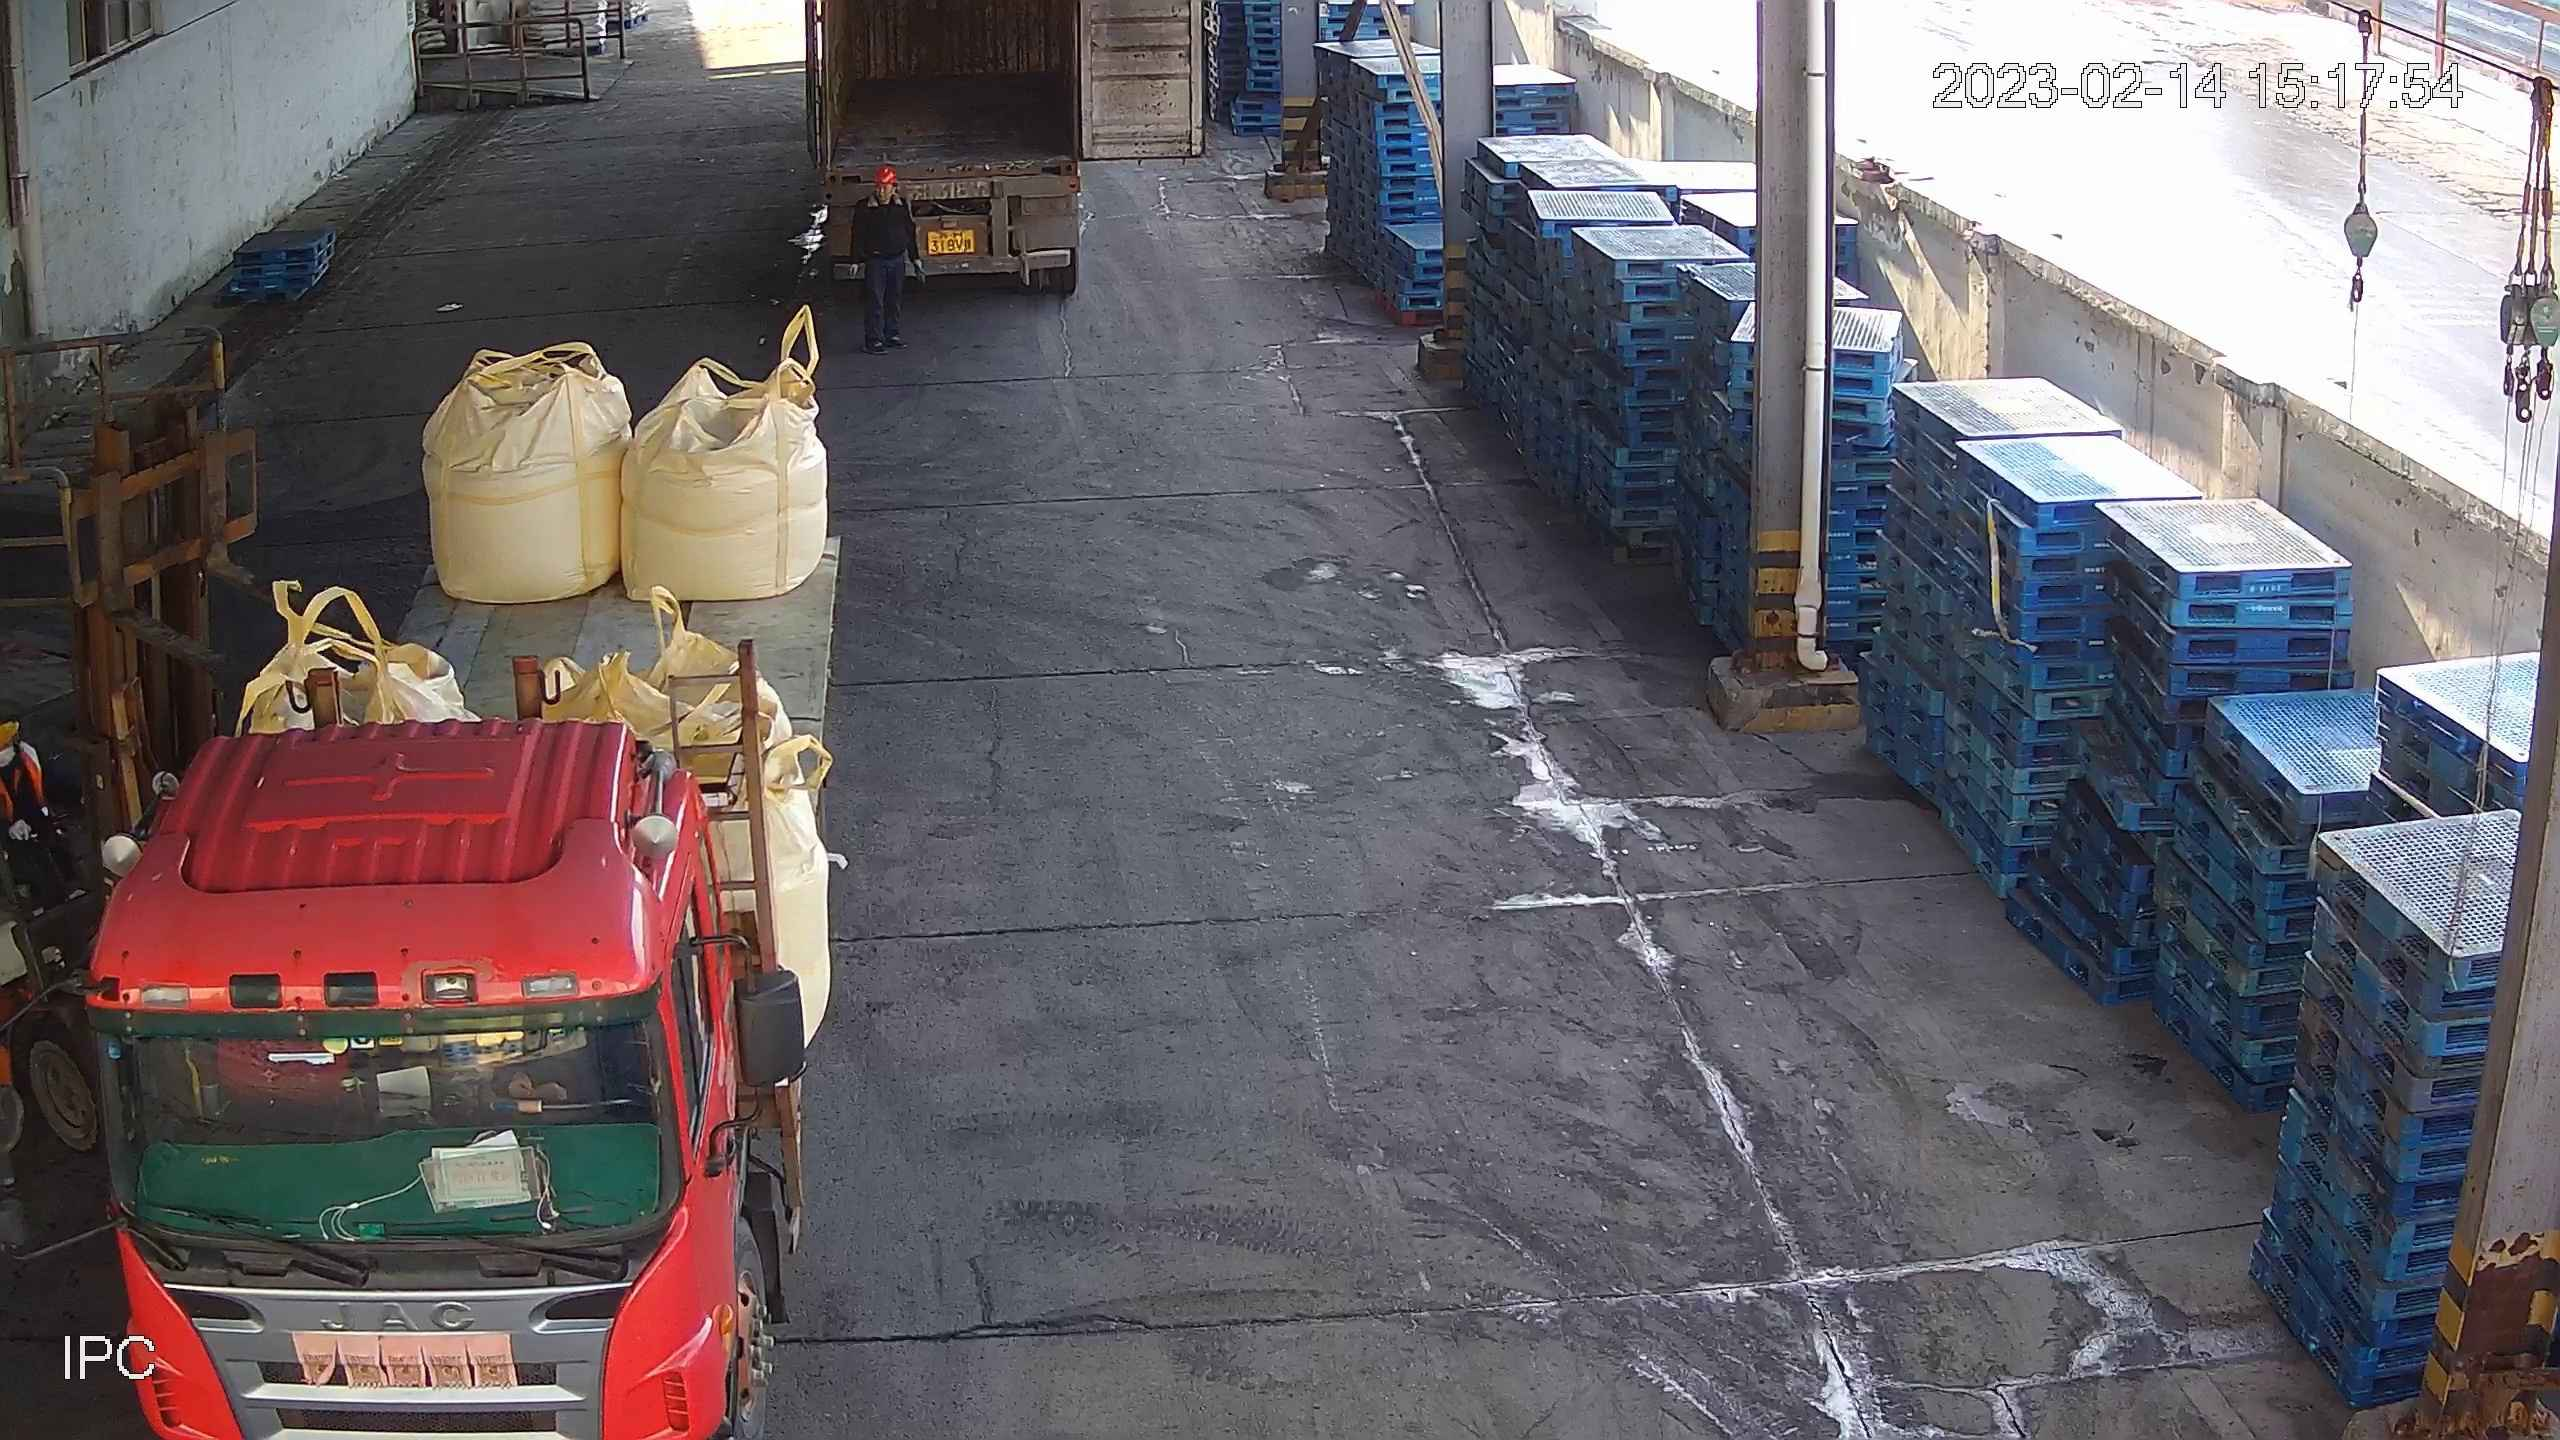head: (849, 162, 925, 221)
helmet: (870, 165, 899, 185)
people: (849, 164, 928, 357)
truck: (74, 495, 862, 1436), (801, 1, 1211, 312)
